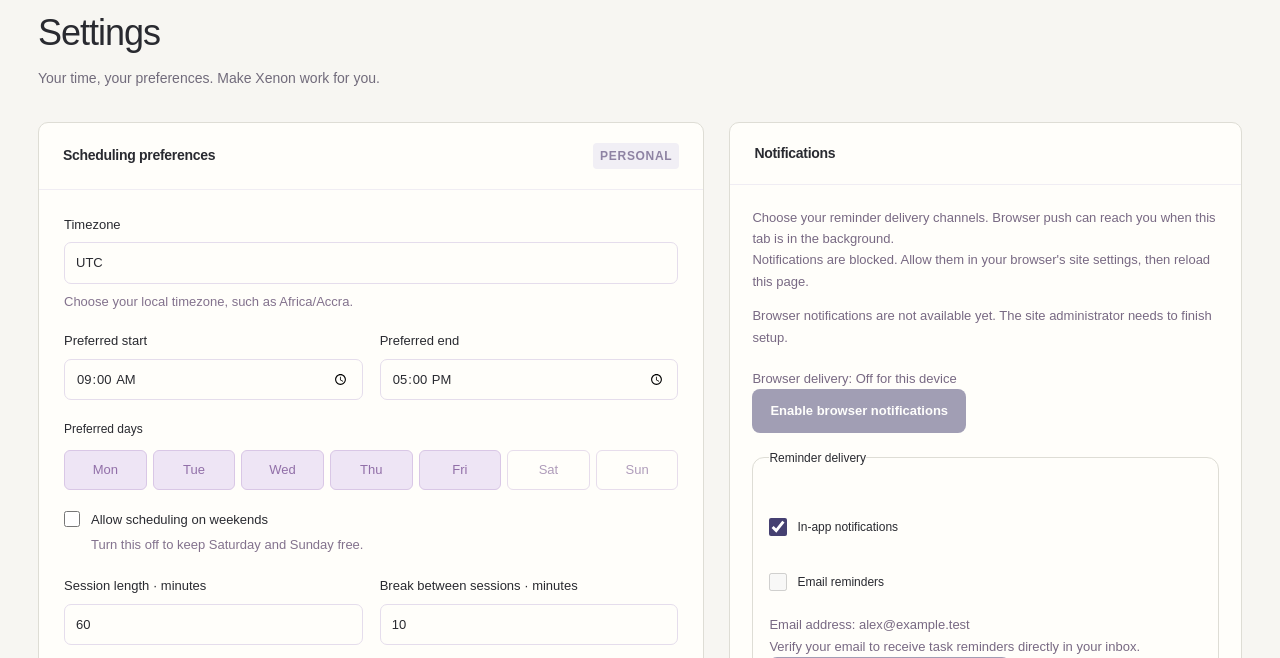
Test: keeps scheduling preferences and notification choices when saving Settings
Check: the heading "Settings" is shown, box x1=38 y1=12 x2=160 y2=52
Replace the text in the number field labelled "Session length · minutes" with "90": (213, 625) x1=64 y1=604 x2=363 y2=645
(page scrolled)
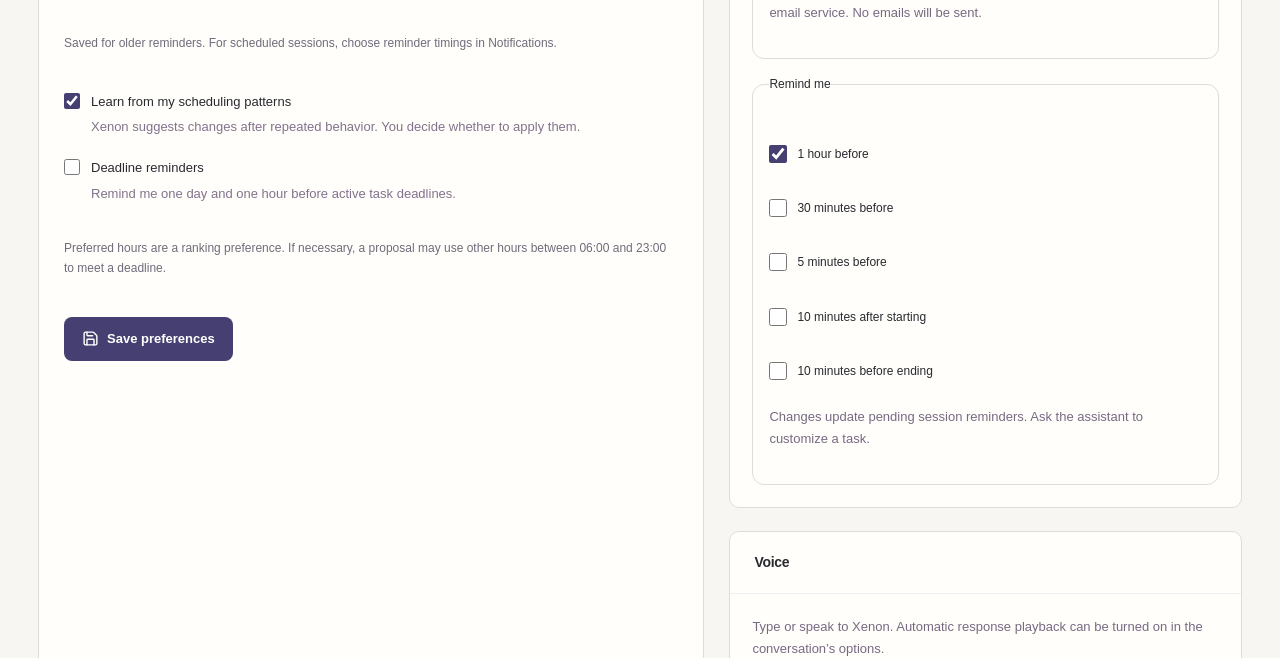
Click the button "Save preferences": click(148, 339) x1=64 y1=317 x2=233 y2=361
(page scrolled)
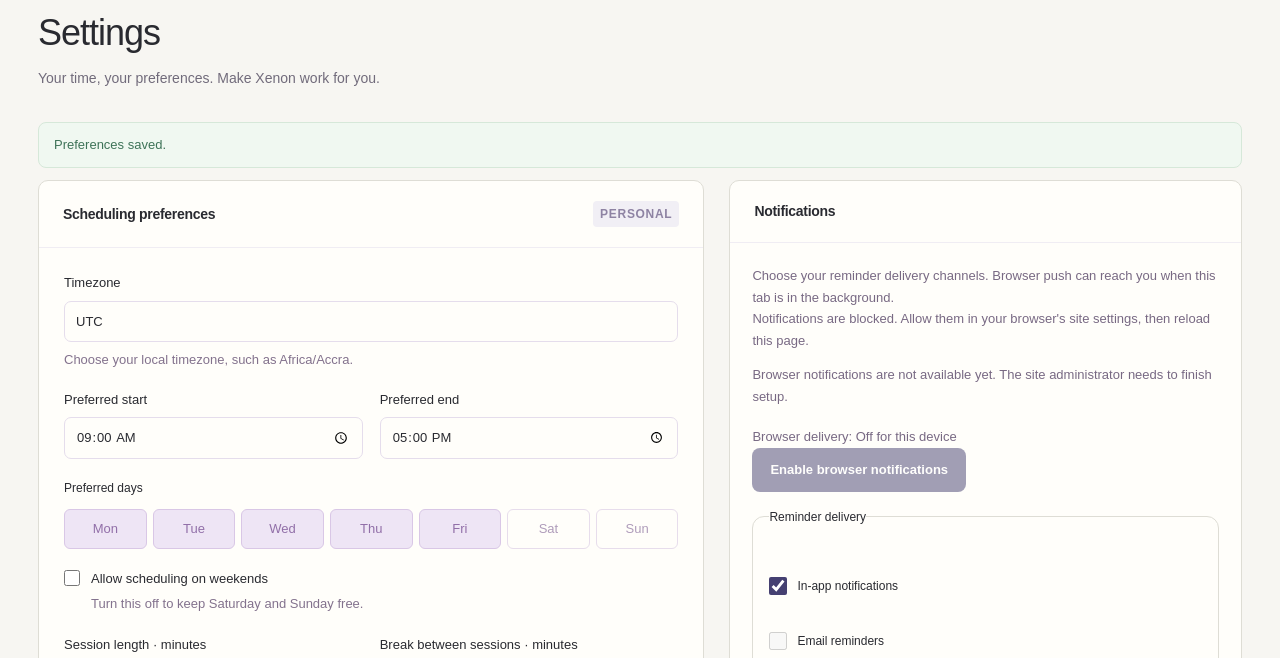
Check: the text "Preferences saved." is shown, box x1=38 y1=122 x2=1242 y2=168
